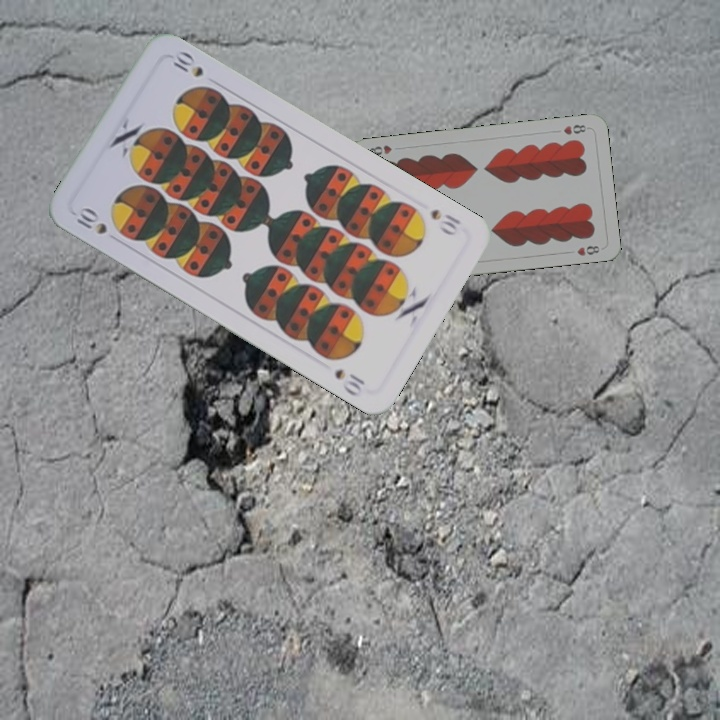H8: (559, 121, 591, 137)
S10: (426, 204, 464, 239), (72, 204, 110, 237)
